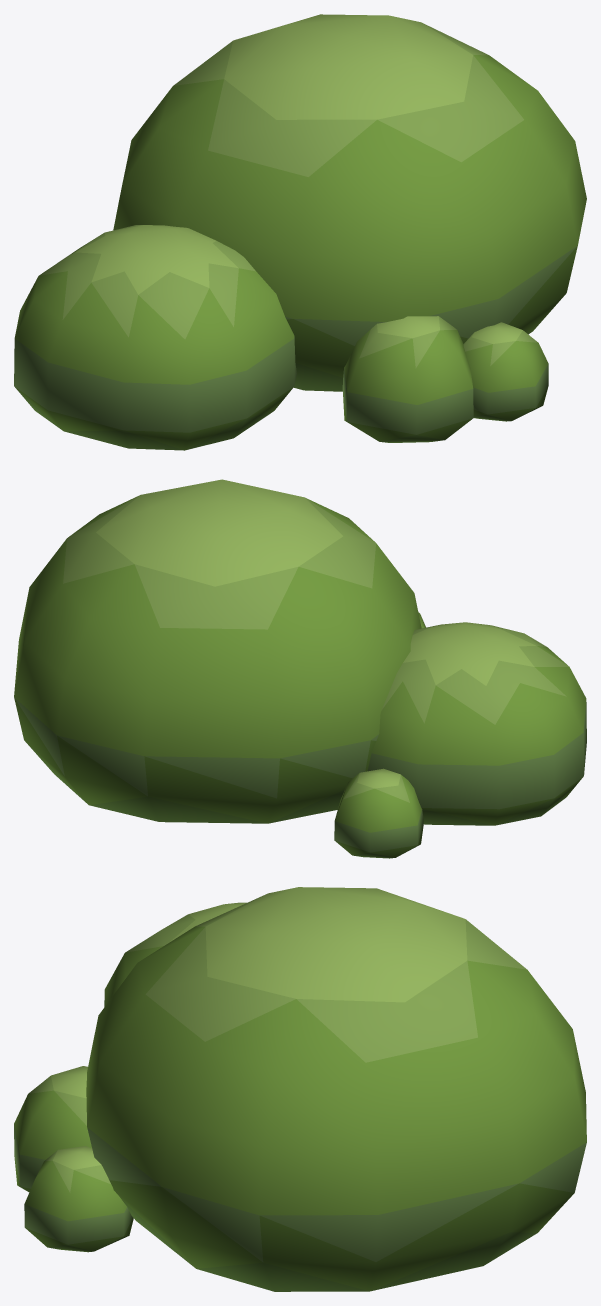
Rendered from itch_kaykit_forest_bush_1_e_color1.glb.
3 renders of one model, top to bottom at view 1: azimuth 30°, elevation 25°; view 2: azimuth 150°, elevation 25°; view 3: azimuth 270°, elevation 25°, orthographic. The views are drawn at different scales.
Parts seen in each view (by area): view 1: Bush_1_E_Color1; view 2: Bush_1_E_Color1; view 3: Bush_1_E_Color1.
Part boxes in pixels (bbox=[...]): Bush_1_E_Color1: bbox=[14, 14, 586, 450]; Bush_1_E_Color1: bbox=[14, 479, 586, 858]; Bush_1_E_Color1: bbox=[14, 887, 586, 1291].
Size of the model in its own units: 0.96 by 0.4927 by 0.8024.
